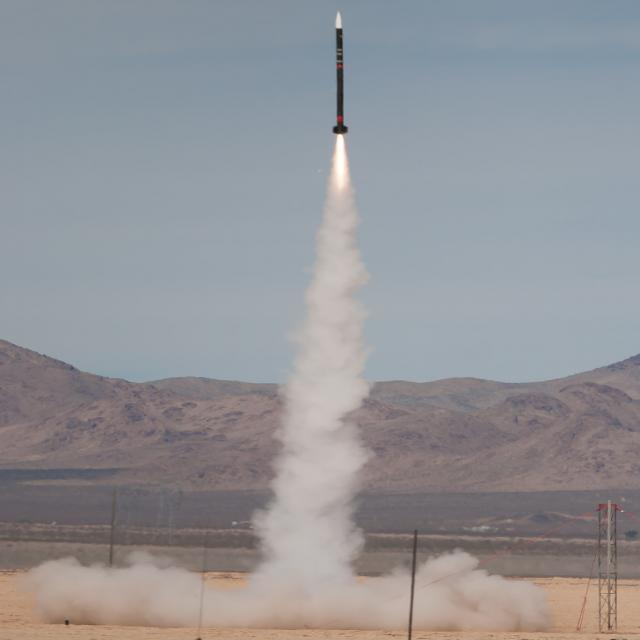Missile: (329, 10, 351, 137)
